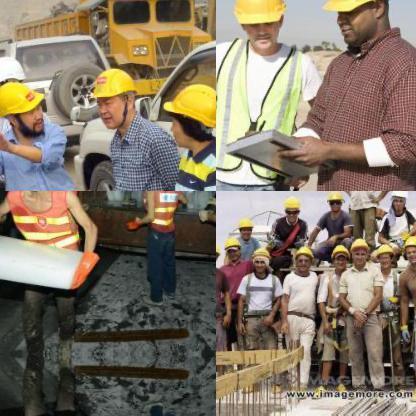Helmet: (320, 0, 401, 51), (162, 80, 215, 147), (226, 0, 290, 54), (87, 63, 139, 129), (0, 79, 47, 130), (0, 55, 24, 91), (250, 244, 270, 276), (375, 240, 395, 270), (282, 192, 300, 224), (293, 244, 313, 272), (350, 236, 368, 266), (330, 242, 348, 271), (388, 191, 411, 211), (221, 235, 241, 258), (401, 235, 415, 264), (327, 191, 343, 216), (237, 216, 253, 240)
